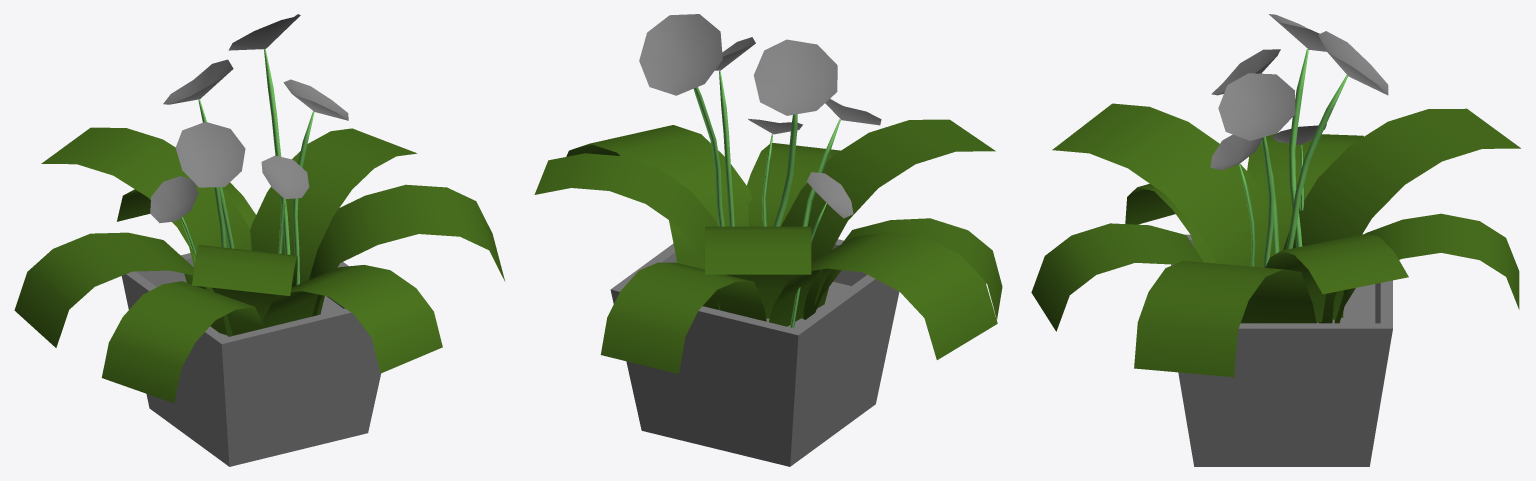
File: SM_flowerpot_010.fbx
The picture shows the model from 3 angles, left to right: view 1: azimuth 30°, elevation 25°; view 2: azimuth 150°, elevation 25°; view 3: azimuth 270°, elevation 25°; orthographic projection. The views are drawn at different scales.
Visible parts, largest first — view 1: Box289; view 2: Box289; view 3: Box289.
Boxes of the visible parts, x1,y1,x2,y2 form: Box289: (14,14,505,466); Box289: (534,14,1002,466); Box289: (1031,14,1520,466).
Size of the model in its own units: 27.61 by 23.55 by 25.15.
